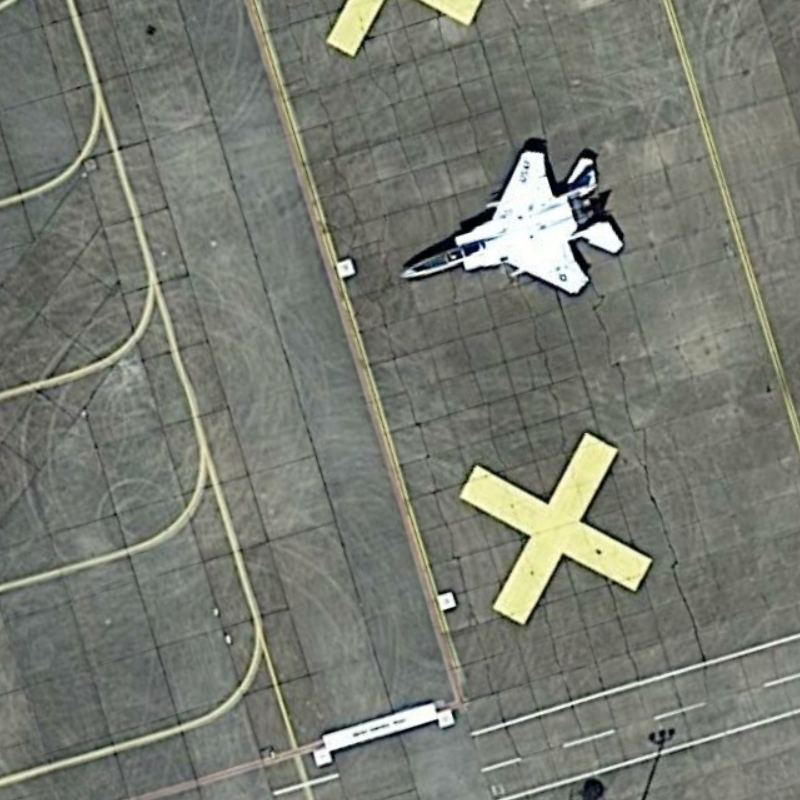A13: (395, 142, 636, 303)
